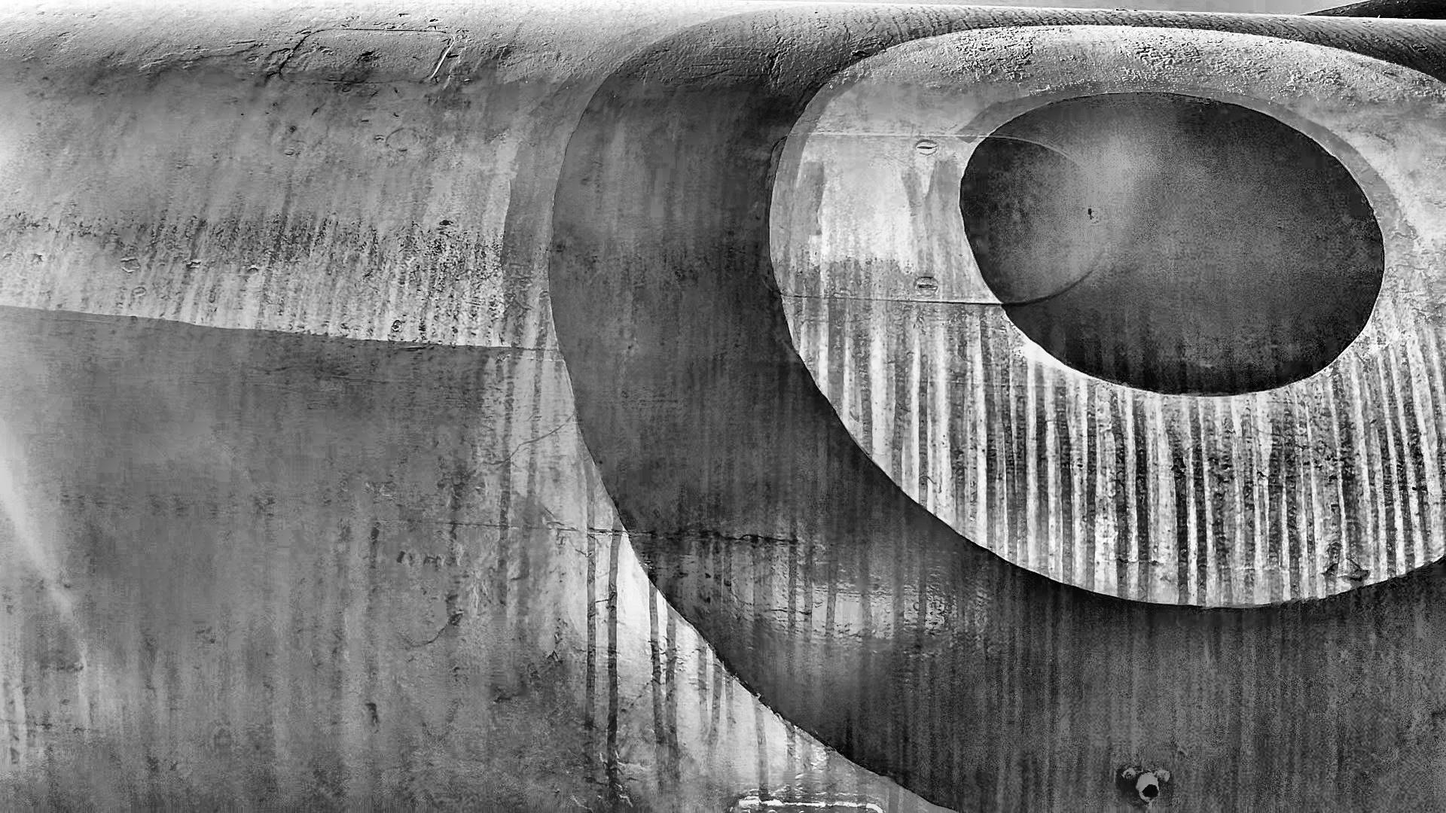paint-peel-off: (1321, 559, 1369, 581)
